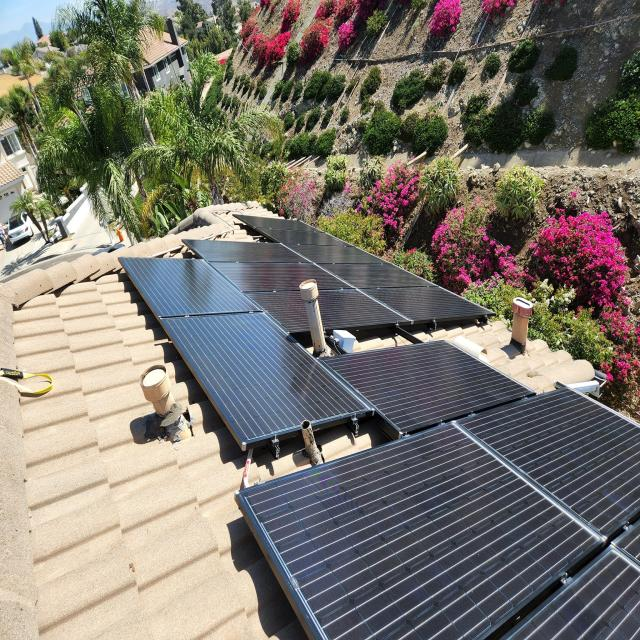clean-solar-panel: (235, 387, 640, 638), (121, 257, 371, 450), (325, 340, 534, 438)
